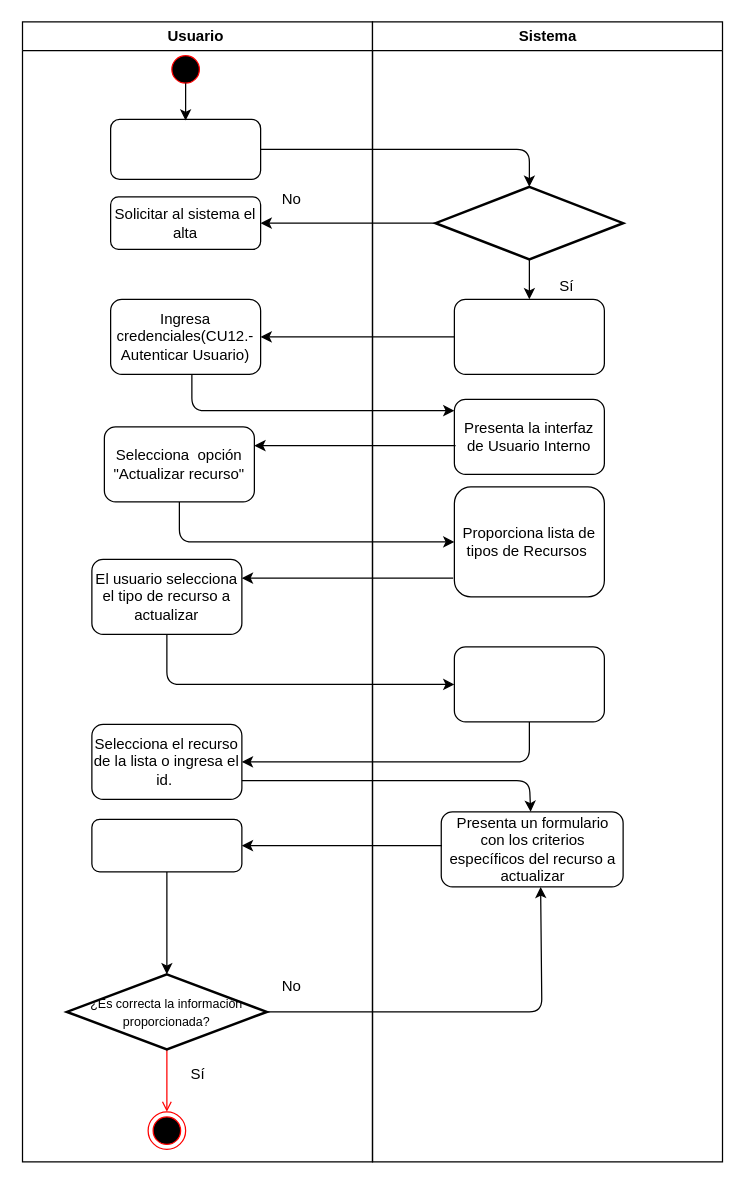
This 744x1184 diagram has some shape labels left out. Here are the shapes that lost their labels. From the top down, the centre of each, then its label:
At pixel 185 148: "Solicita acceso a un recurso protegido".
At pixel 529 222: "¿Está dado de alta en el sistema?".
At pixel 528 336: "Presenta interfaz de loggin".
At pixel 528 684: "Presenta una lista o apartado para la búsqueda del recurso a actualizar".
At pixel 166 845: "Ingresa las actualizaciones".
